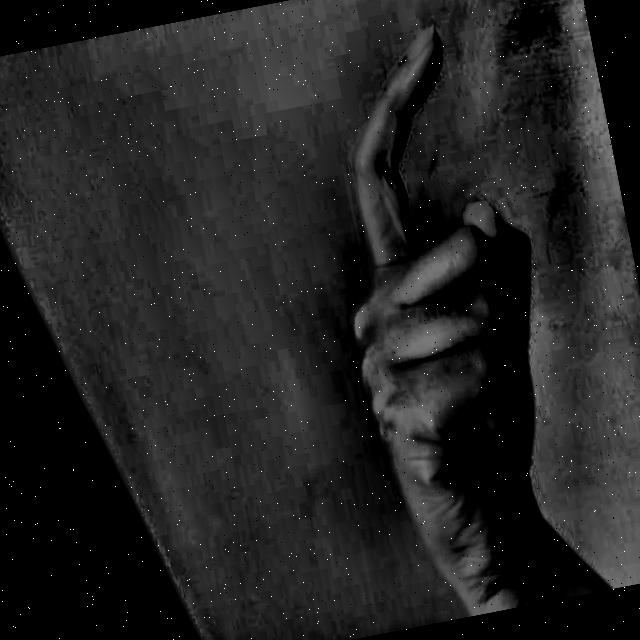E: (291, 0, 596, 593)
